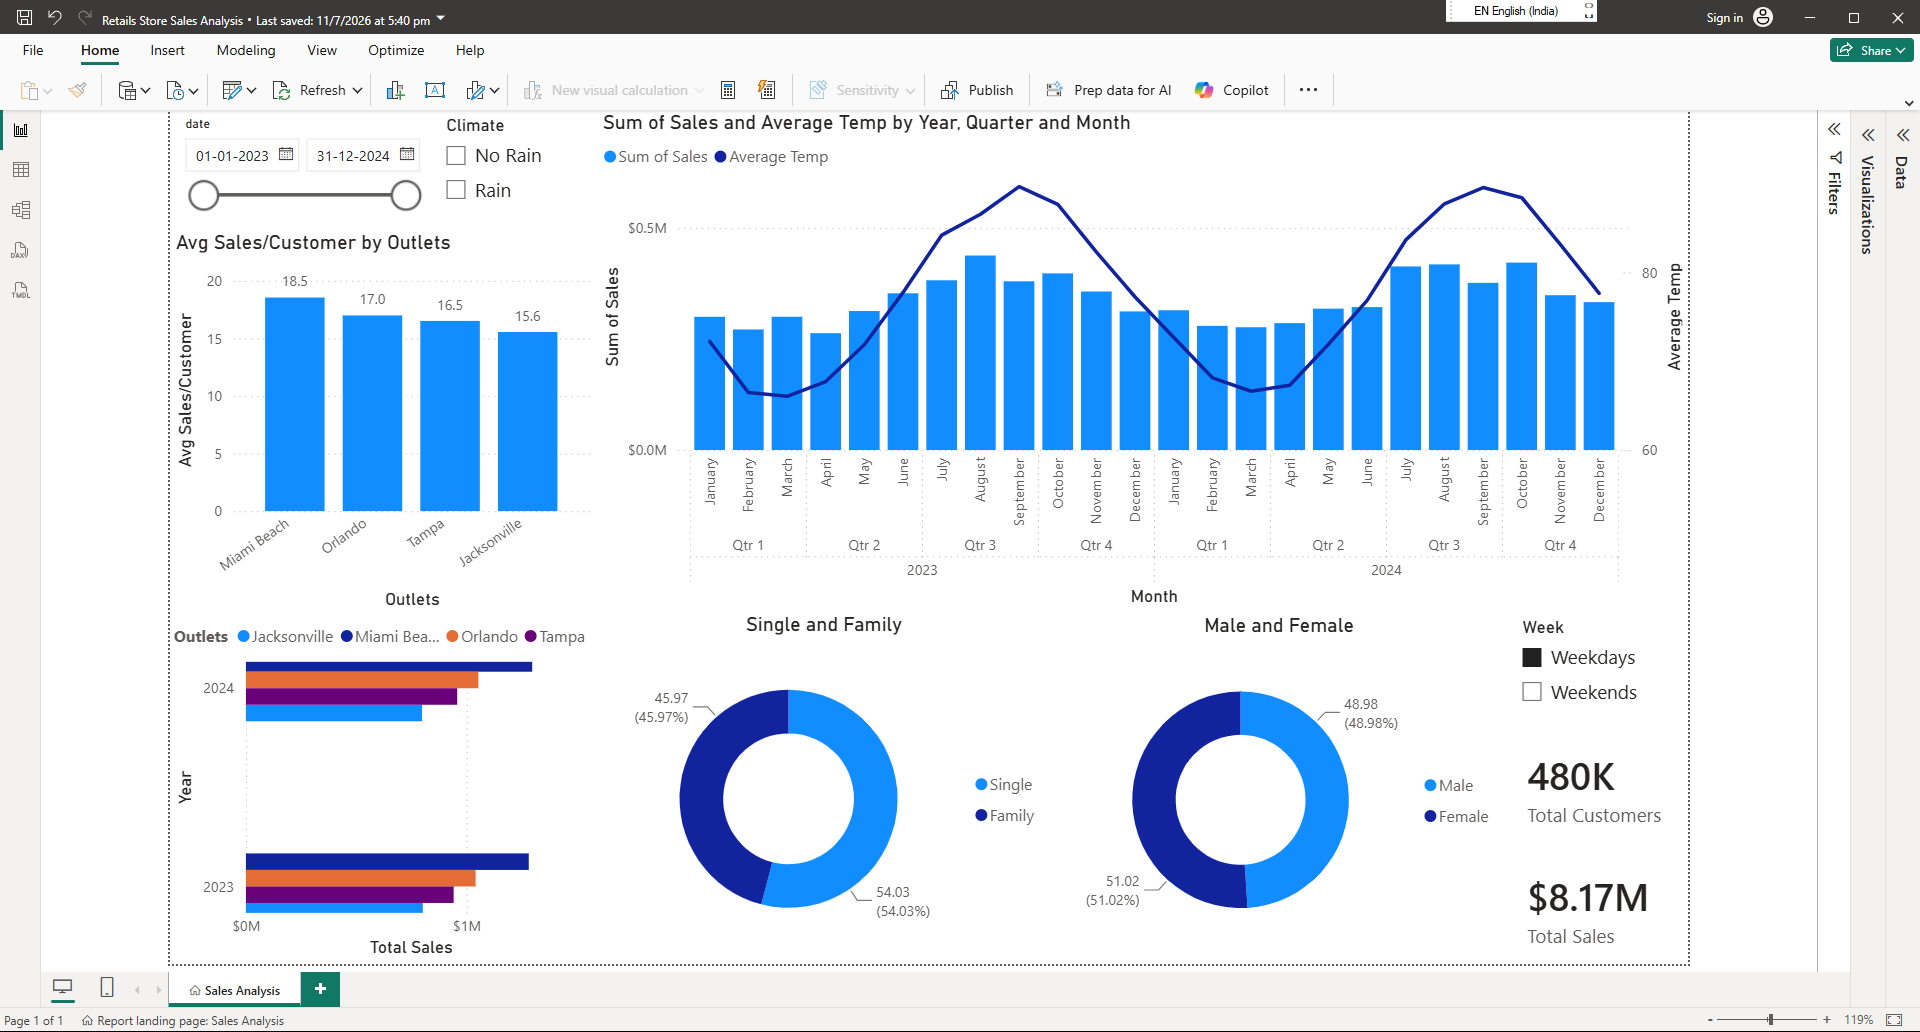

Layout of this report page (visuals, bound fields, positions):
{"tool":"powerbi","page":{"name":"Sales Analysis","canvas":[1280,720],"ordinal":0},"visuals":[{"type":"lineClusteredColumnComboChart","fields":{"Category":["final_records.date.Variation.Date Hierarchy.Year","final_records.date.Variation.Date Hierarchy.Quarter","final_records.date.Variation.Date Hierarchy.Month","final_records.date.Variation.Date Hierarchy.Day"],"Y":["Sum(final_records.sales_usd)"],"Y2":["Avg(final_records.avg_temp_f)"]},"box":[360,0,920,423],"z":0},{"type":"clusteredBarChart","fields":{"Category":["final_records.date.Variation.Date Hierarchy.Year","final_records.date.Variation.Date Hierarchy.Quarter","final_records.date.Variation.Date Hierarchy.Month","final_records.date.Variation.Date Hierarchy.Day"],"Y":["Sum(final_records.sales_usd)"],"Series":["final_records.shop_name"]},"box":[0,423,360,296],"z":1000},{"type":"cardVisual","fields":{"Data":["Sum(final_records.sales_usd)"]},"box":[1127,626,153,94],"z":2000},{"type":"cardVisual","fields":{"Data":["Sum(final_records.customers)"]},"box":[1127,516,153,110],"z":3000},{"type":"columnChart","fields":{"Category":["final_records.shop_name"],"Y":["Avg(final_records.avg_sales_per_person)"]},"box":[0,101,360,324],"z":4000},{"type":"donutChart","fields":{"Y":["Avg(final_records.pct_male)","Avg(final_records.pct_female)"]},"box":[744,424,383,296],"z":5000},{"type":"donutChart","fields":{"Y":["Avg(final_records.pct_single)","Avg(final_records.pct_family)"]},"box":[360,423,383,296],"z":6000},{"type":"slicer","fields":{"Values":["final_records.date"]},"box":[0,0,220,101],"z":7000},{"type":"slicer","fields":{"Values":["final_records.is_rain"]},"box":[220,0,140,101],"z":8000},{"type":"slicer","fields":{"Values":["final_records.weeks_of_year"]},"box":[1127,423,153,93],"z":9000}]}

Visuals, with their boxes on the page's 1280x720 design canvas (x1, y1, x2, y2). These are canvas units, not pixel positions in the 1920x1032 screenshot, which may show the page scaled, cropped or inside an application window:
lineClusteredColumnComboChart - final_records.date.Variation.Date Hierarchy.Year x final_records.date.Variation.Date Hierarchy.Quarter: locate(360, 0, 1280, 423)
clusteredBarChart - final_records.date.Variation.Date Hierarchy.Year x final_records.date.Variation.Date Hierarchy.Quarter: locate(0, 423, 360, 719)
cardVisual - Sum(final_records.sales_usd): locate(1127, 626, 1280, 720)
cardVisual - Sum(final_records.customers): locate(1127, 516, 1280, 626)
columnChart - final_records.shop_name x Avg(final_records.avg_sales_per_person): locate(0, 101, 360, 425)
donutChart - Avg(final_records.pct_male) x Avg(final_records.pct_female): locate(744, 424, 1127, 720)
donutChart - Avg(final_records.pct_single) x Avg(final_records.pct_family): locate(360, 423, 743, 719)
slicer - final_records.date: locate(0, 0, 220, 101)
slicer - final_records.is_rain: locate(220, 0, 360, 101)
slicer - final_records.weeks_of_year: locate(1127, 423, 1280, 516)
